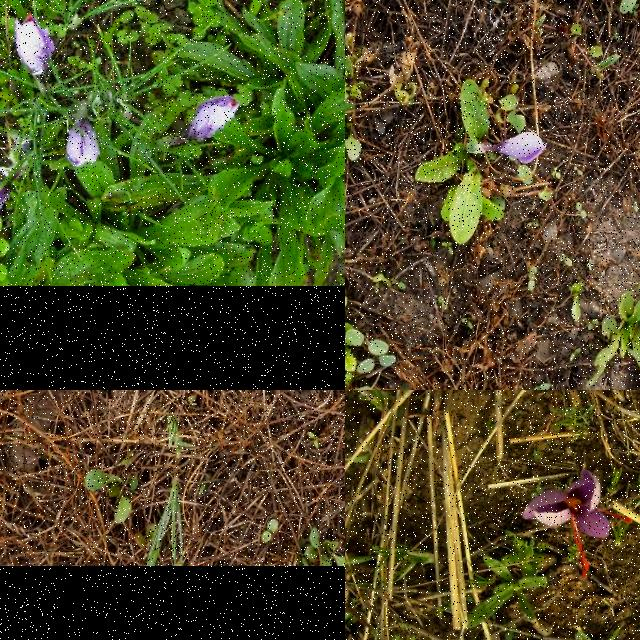flower: (520, 468, 632, 578), (13, 11, 57, 77), (187, 94, 241, 144), (65, 119, 103, 169), (494, 132, 548, 164)
